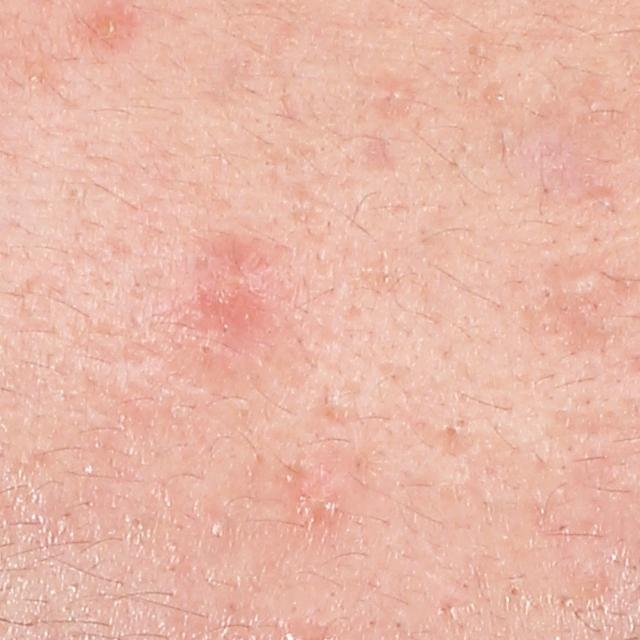comedo: (562, 264, 605, 307), (535, 284, 557, 305), (442, 421, 461, 440), (508, 583, 521, 598)
